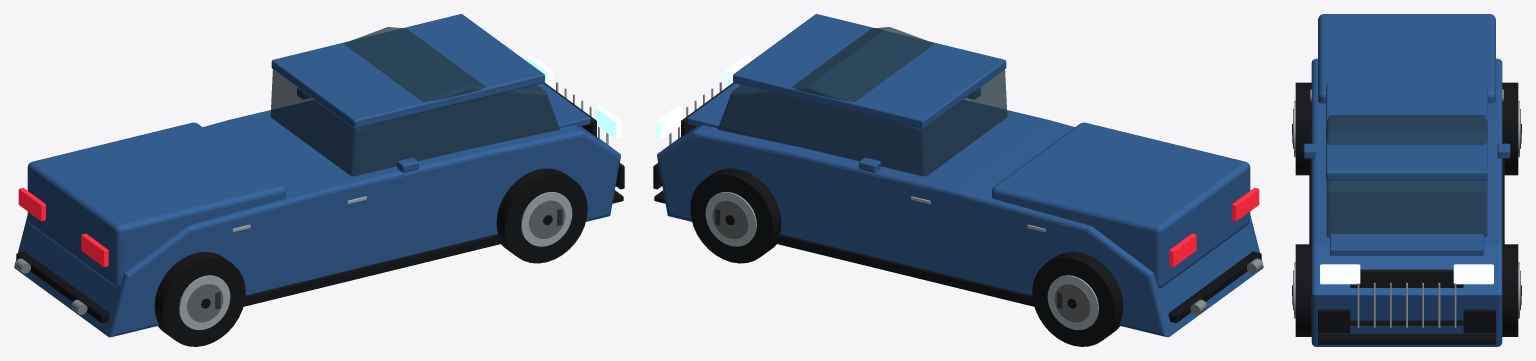
The model's file is ford_f_350_super_duty.glb.
The picture shows the model from 3 angles, left to right: view 1: azimuth 30°, elevation 25°; view 2: azimuth 150°, elevation 25°; view 3: azimuth 270°, elevation 25°; orthographic projection. The views are drawn at different scales.
Parts seen in each view (by area): view 1: sculpted_body, pickup_bed, cab, cab_roof, hood_center, rear_right_wheel_tire, front_right_wheel_tire, side_skirt_1, rear_diffuser, rear_right_wheel_rim, front_right_wheel_rim, rear_right_wheel_disc (+4 smaller); view 2: sculpted_body, pickup_bed, cab, cab_roof, hood_center, rear_left_wheel_tire, front_left_wheel_tire, side_skirt_-1, rear_diffuser, rear_left_wheel_rim, front_left_wheel_rim, rear_left_wheel_disc (+4 smaller); view 3: cab_roof, sculpted_body, cab, pickup_bed, hood_center, front_grille, front_splitter, front_left_wheel_tire, front_right_wheel_tire, rear_left_wheel_tire, rear_right_wheel_tire, headlight_left (+7 smaller).
Part boxes in pixels (x1,y1,x2,y2): sculpted_body: [14, 100, 620, 337]; pickup_bed: [27, 122, 285, 287]; cab: [270, 27, 559, 176]; cab_roof: [271, 14, 544, 128]; hood_center: [399, 83, 590, 151]; rear_right_wheel_tire: [154, 252, 245, 346]; front_right_wheel_tire: [496, 168, 587, 263]; side_skirt_1: [243, 234, 502, 306]; rear_diffuser: [16, 251, 109, 322]; rear_right_wheel_rim: [179, 275, 230, 330]; front_right_wheel_rim: [521, 192, 572, 246]; rear_right_wheel_disc: [187, 284, 223, 322]; sculpted_body: [657, 100, 1263, 337]; pickup_bed: [992, 122, 1250, 287]; cab: [718, 27, 1007, 176]; cab_roof: [733, 14, 1006, 128]; hood_center: [687, 83, 878, 151]; rear_left_wheel_tire: [1032, 252, 1123, 346]; front_left_wheel_tire: [690, 168, 781, 263]; side_skirt_-1: [775, 234, 1034, 306]; rear_diffuser: [1168, 251, 1261, 322]; rear_left_wheel_rim: [1047, 275, 1098, 330]; front_left_wheel_rim: [705, 192, 756, 246]; rear_left_wheel_disc: [1054, 284, 1090, 322]; cab_roof: [1326, 82, 1487, 180]; sculpted_body: [1311, 58, 1502, 346]; cab: [1326, 115, 1487, 237]; pickup_bed: [1318, 14, 1495, 103]; hood_center: [1330, 181, 1483, 255]; front_grille: [1350, 269, 1463, 325]; front_splitter: [1318, 334, 1495, 344]; front_left_wheel_tire: [1502, 244, 1518, 336]; front_right_wheel_tire: [1295, 244, 1311, 336]; rear_left_wheel_tire: [1502, 82, 1518, 175]; rear_right_wheel_tire: [1295, 82, 1311, 175]; headlight_left: [1453, 264, 1493, 284].
Size of the model in its own units: 6.08 by 1.94 by 2.33.
